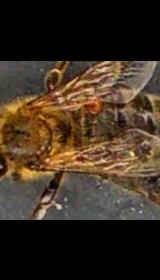varroa_mite: (83, 88, 101, 118)
